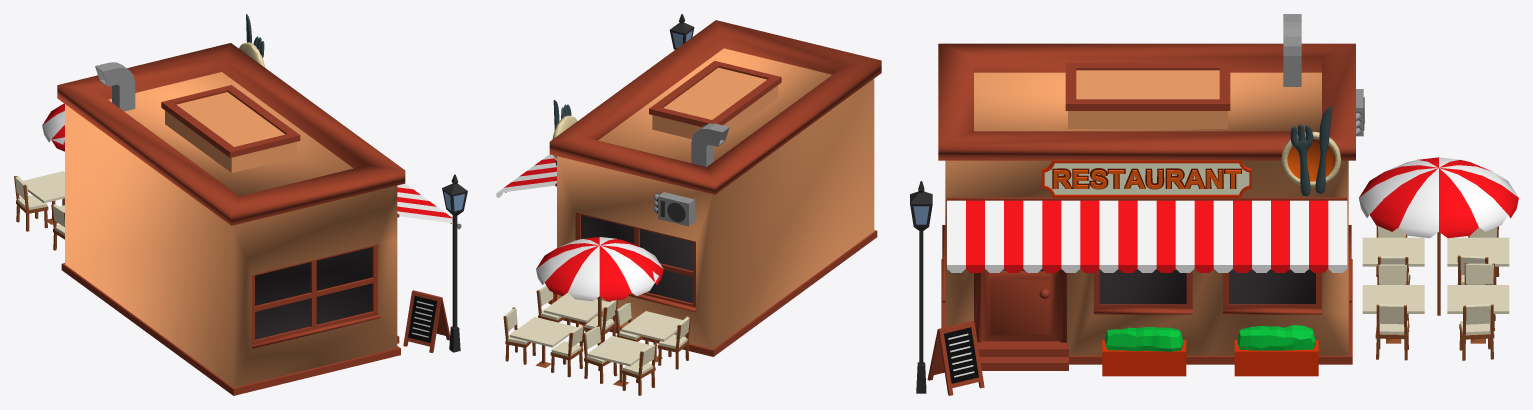
The model's file is shop_c_high.glb.
3 views of the same model, side by side, from view 1: azimuth 30°, elevation 25°; view 2: azimuth 150°, elevation 25°; view 3: azimuth 270°, elevation 25° (orthographic). The views are drawn at different scales.
Parts seen in each view (by area): view 1: shop_c_high; view 2: shop_c_high; view 3: shop_c_high.
Part boxes in pixels (box(x1,y1,x2,y2)): shop_c_high: box(14, 14, 467, 395); shop_c_high: box(496, 14, 881, 395); shop_c_high: box(910, 14, 1518, 395).
Size of the model in its own units: 5.55 by 5 by 10.48.
1 material, 1 textured.
